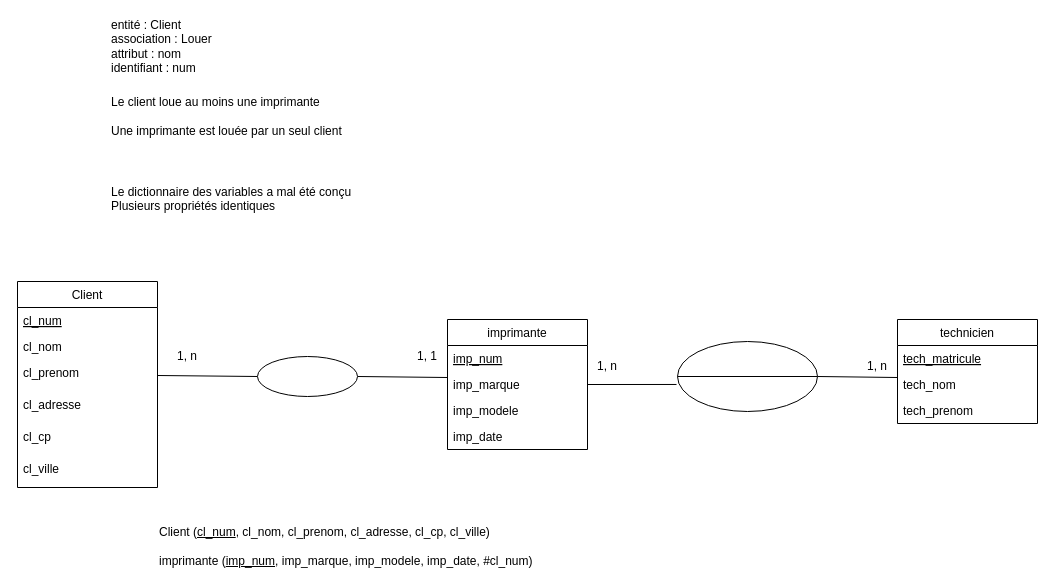
Image size: 1055x585. Some labels were removed from this diagram. The shapes that lost their labels are listed below. From the top down, each one's centre as x and y in pixels, then its label:
pixel 307 376: Louer
pixel 747 376: Intervenir date_heure
